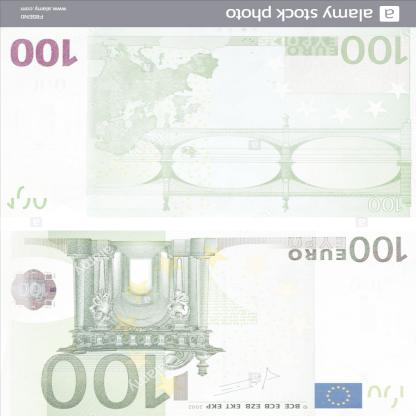euro_banknote: (1, 30, 412, 218), (4, 230, 416, 416)
